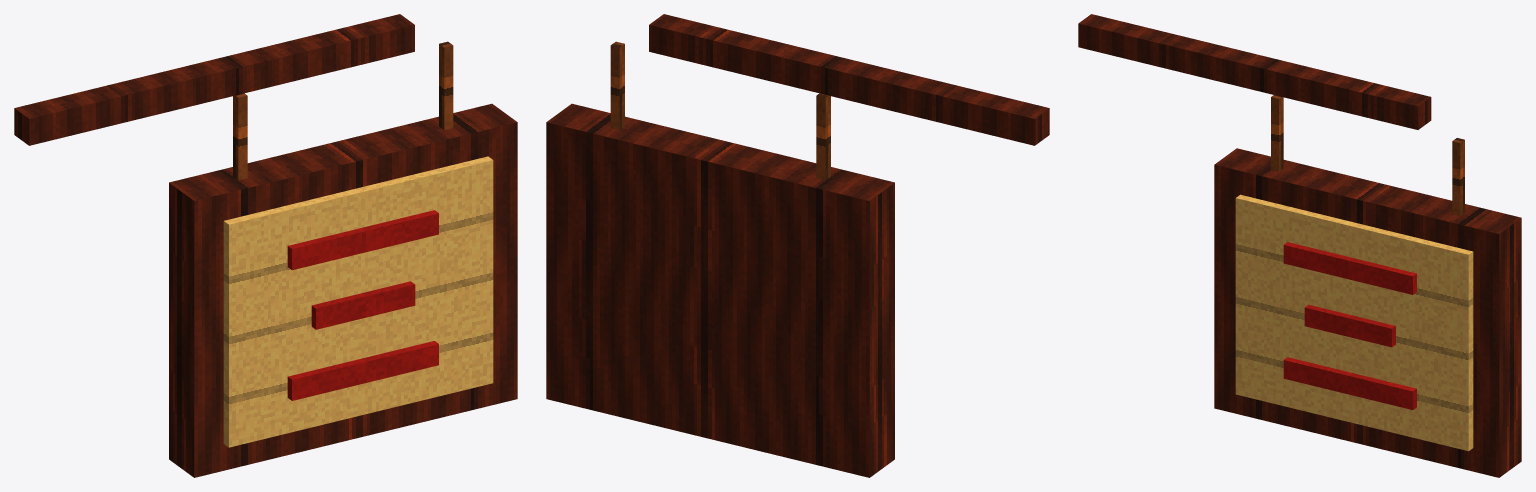
Rendered from bowl_shop_sign.glb.
3 renders of one model, left to right at view 1: azimuth 30°, elevation 25°; view 2: azimuth 150°, elevation 25°; view 3: azimuth 330°, elevation 25°, orthographic. The views are drawn at different scales.
Parts seen in each view (by area): view 1: bowl_shop_sign; view 2: bowl_shop_sign; view 3: bowl_shop_sign.
Part boxes in pixels (bbox=[...]): bowl_shop_sign: bbox=[14, 14, 517, 477]; bowl_shop_sign: bbox=[546, 14, 1049, 477]; bowl_shop_sign: bbox=[1078, 14, 1521, 477].
Bounding box in the file's own units: 1.31 × 1.02 × 0.1655.
4 materials, 4 textured.
